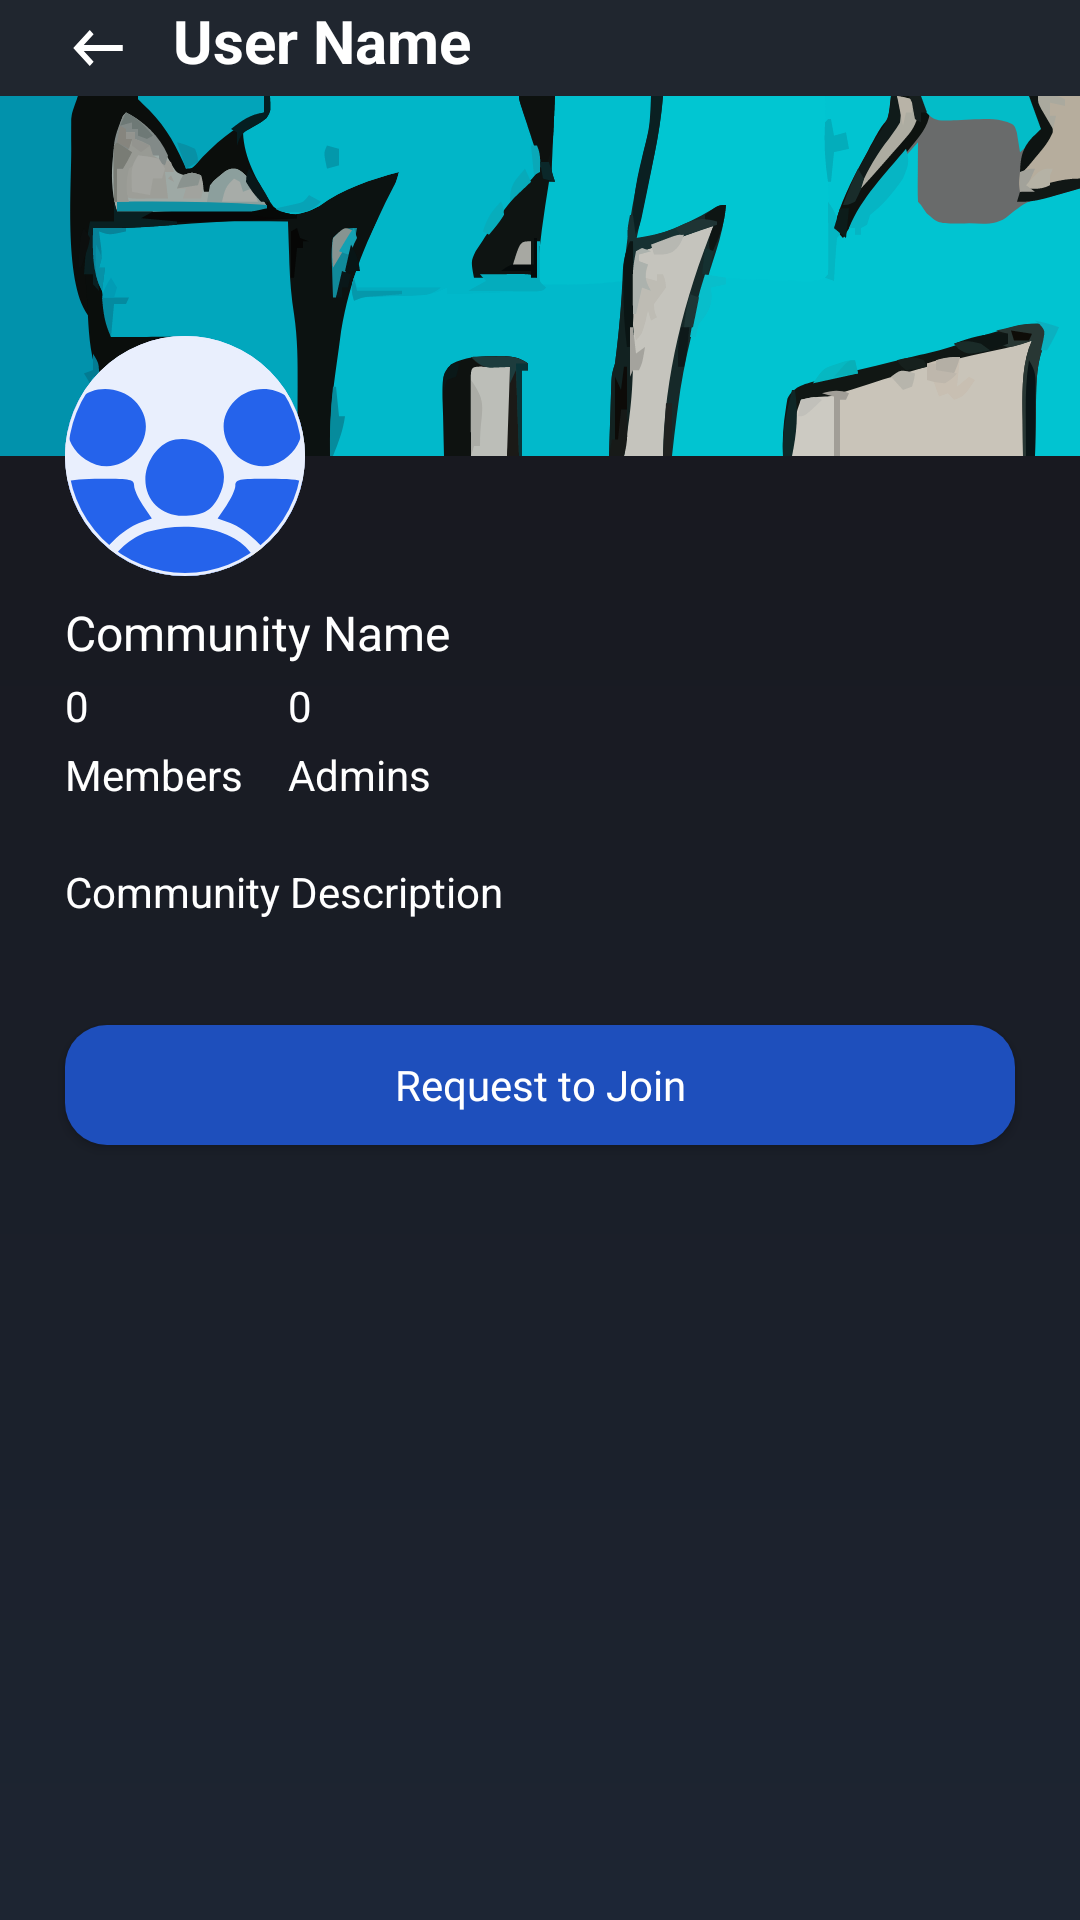

Where to tap for icons on this 1080px×1920px app screen, as [x,y]:
Back: [98,48]
